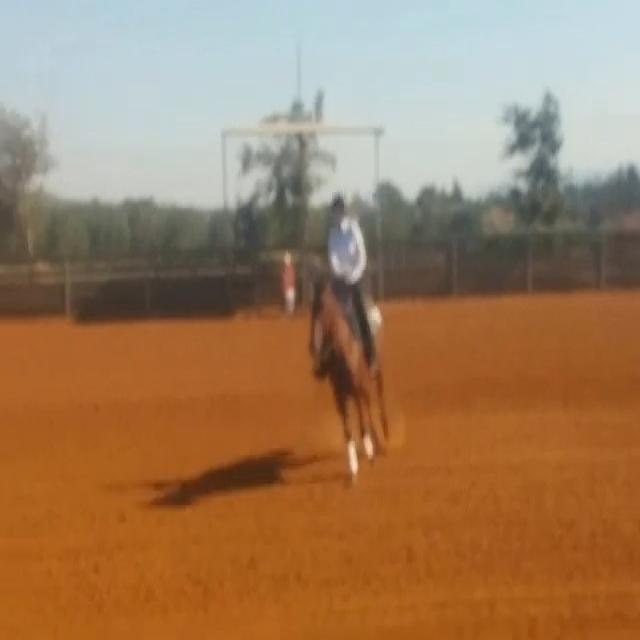horse: (305, 266, 391, 484)
